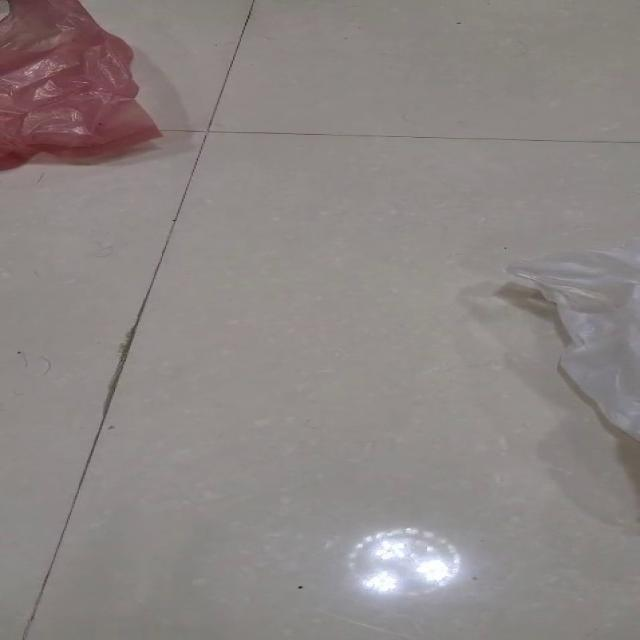plastic: (0, 0, 162, 170), (504, 238, 638, 442)
